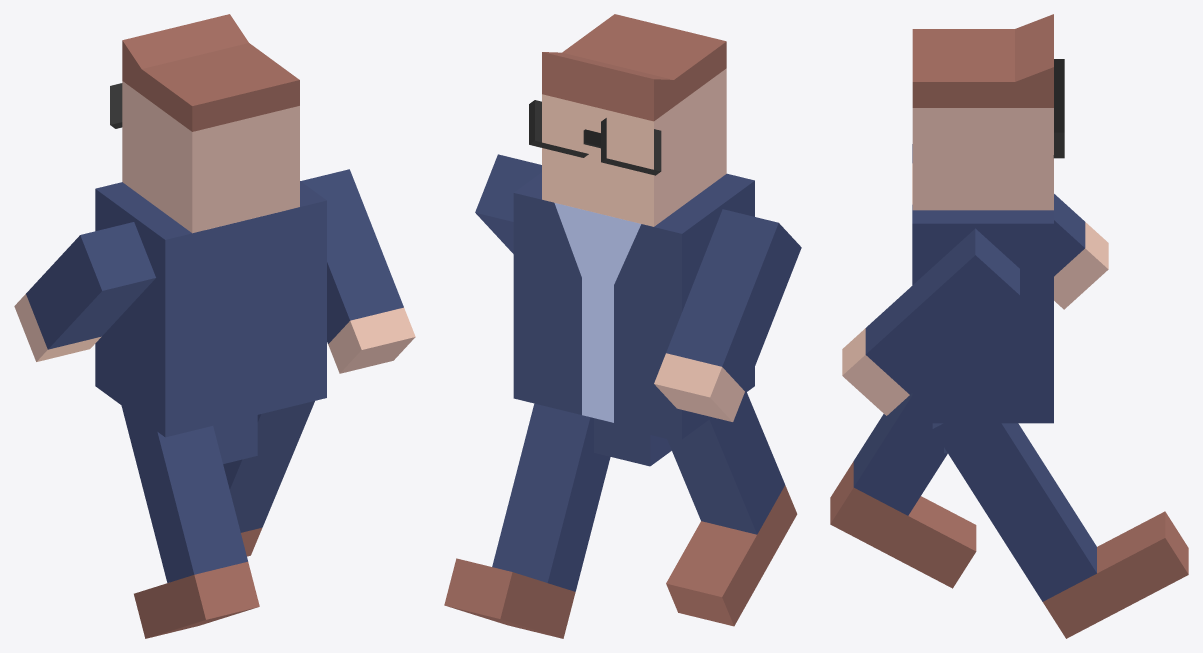
Rendered from sidewalk-headhunter-jump-2.glb.
3 views of the same model, side by side, from view 1: azimuth 30°, elevation 25°; view 2: azimuth 150°, elevation 25°; view 3: azimuth 270°, elevation 25° (orthographic). The views are drawn at different scales.
Visible parts, largest first — view 1: UNIT.026, UNIT.030, UNIT.027, UNIT.028, UNIT.029; view 2: UNIT.026, UNIT.029, UNIT.030, UNIT.028, UNIT.027; view 3: UNIT.026, UNIT.029, UNIT.027, UNIT.030, UNIT.028.
Part boxes in pixels (x1=…): UNIT.026: x1=95, y1=14, x2=326, y2=463; UNIT.030: x1=113, y1=368, x2=259, y2=638; UNIT.027: x1=301, y1=169, x2=415, y2=373; UNIT.028: x1=14, y1=222, x2=155, y2=361; UNIT.029: x1=223, y1=401, x2=314, y2=556; UNIT.026: x1=513, y1=14, x2=754, y2=466; UNIT.029: x1=444, y1=403, x2=610, y2=638; UNIT.030: x1=666, y1=392, x2=797, y2=626; UNIT.028: x1=654, y1=209, x2=801, y2=421; UNIT.027: x1=475, y1=154, x2=541, y2=253; UNIT.026: x1=912, y1=14, x2=1064, y2=453; UNIT.029: x1=932, y1=417, x2=1188, y2=638; UNIT.027: x1=842, y1=228, x2=1019, y2=415; UNIT.030: x1=830, y1=393, x2=976, y2=588; UNIT.028: x1=1054, y1=194, x2=1108, y2=309.
Size of the model in its own units: 0.7001 by 1.38 by 0.7982.
1 material, 1 textured.
